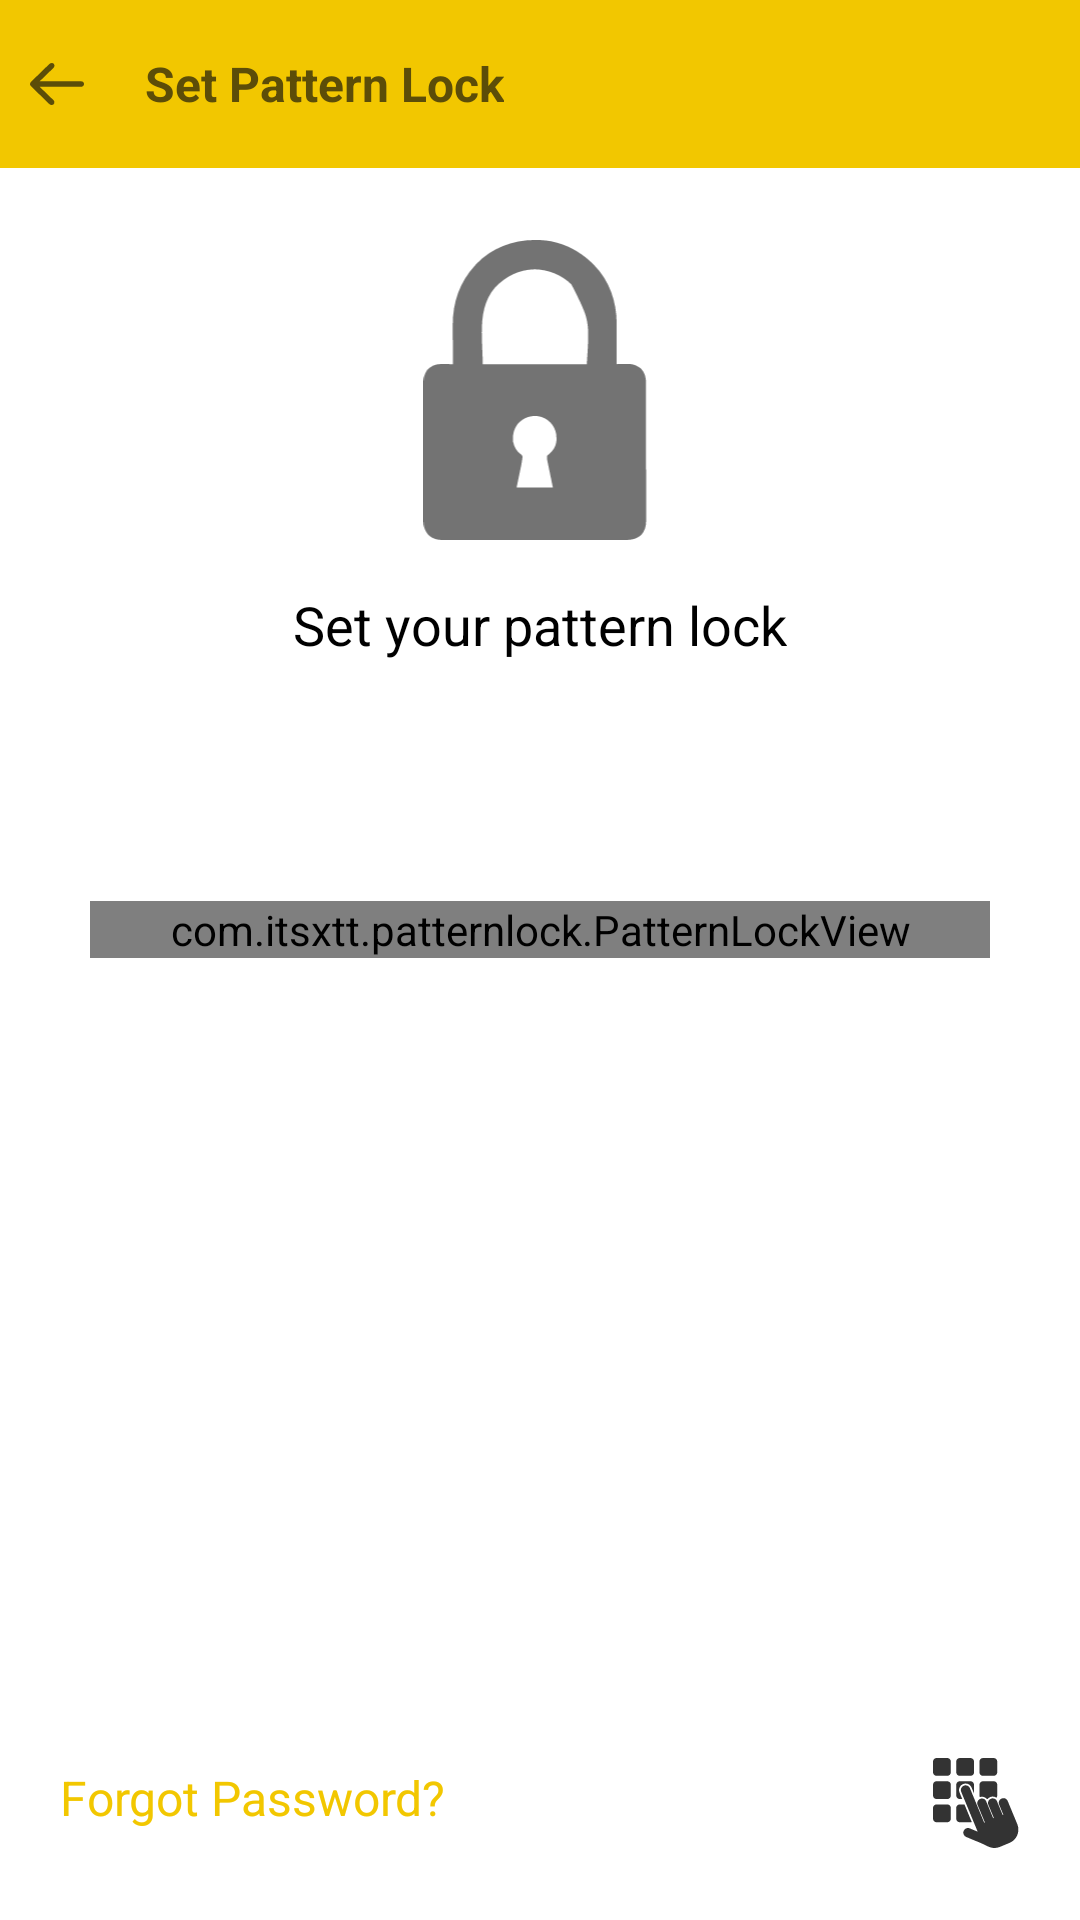

Screen size 1080px x 1920px. Icon name, then its center in pixels as point (x, y):
back: point (57, 84)
pinpass: point (976, 1803)
